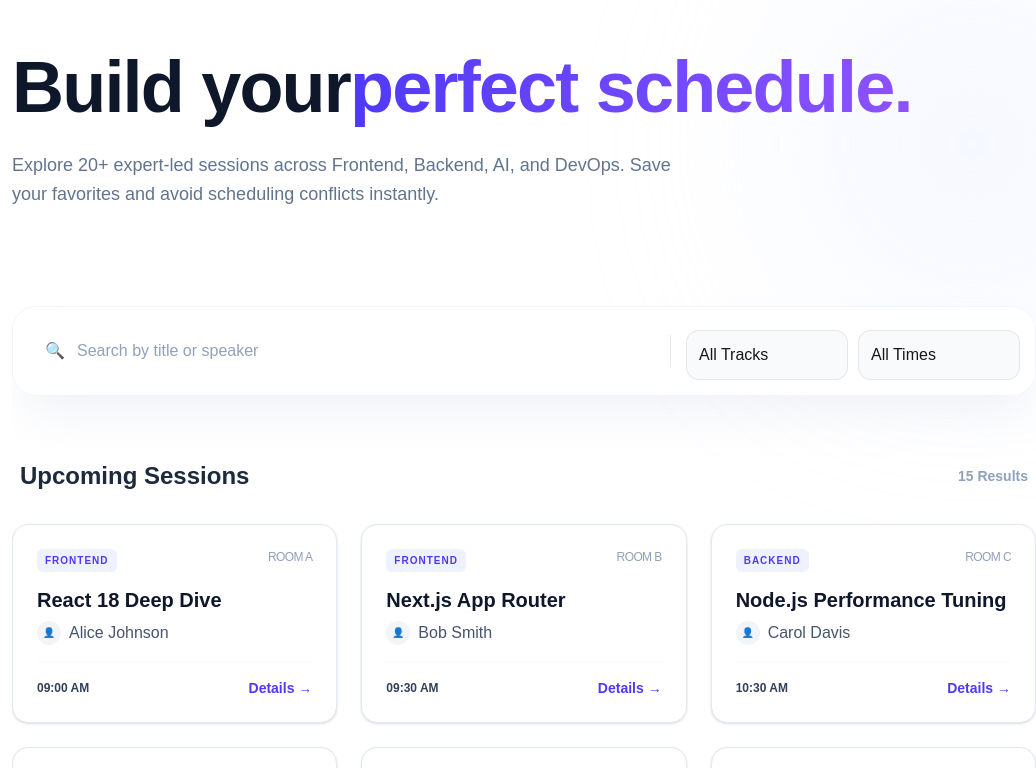
Test: SessionsPage › filters sessions by track
Select "Frontend" in the 1st dropdown at point(767, 355), box [687,331,847,379]
(page scrolled)
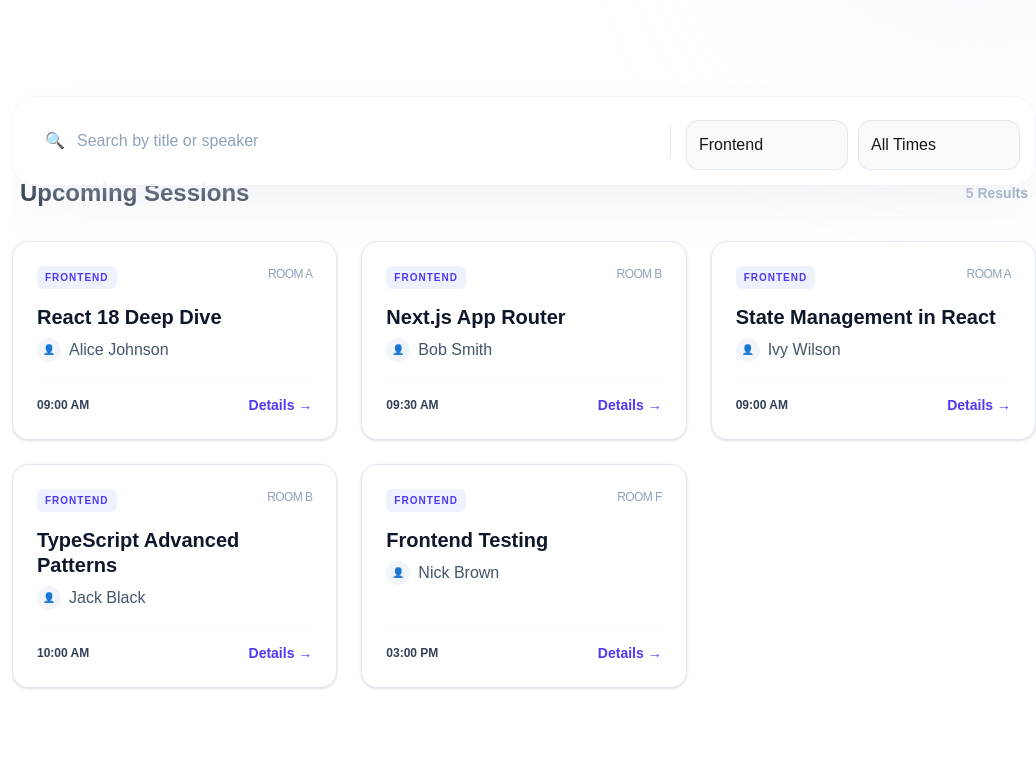
Expected: the heading "React 18 Deep Dive" is shown, [37,306,222,328]
Now the link "Node.js Performance Tuning" is gone
